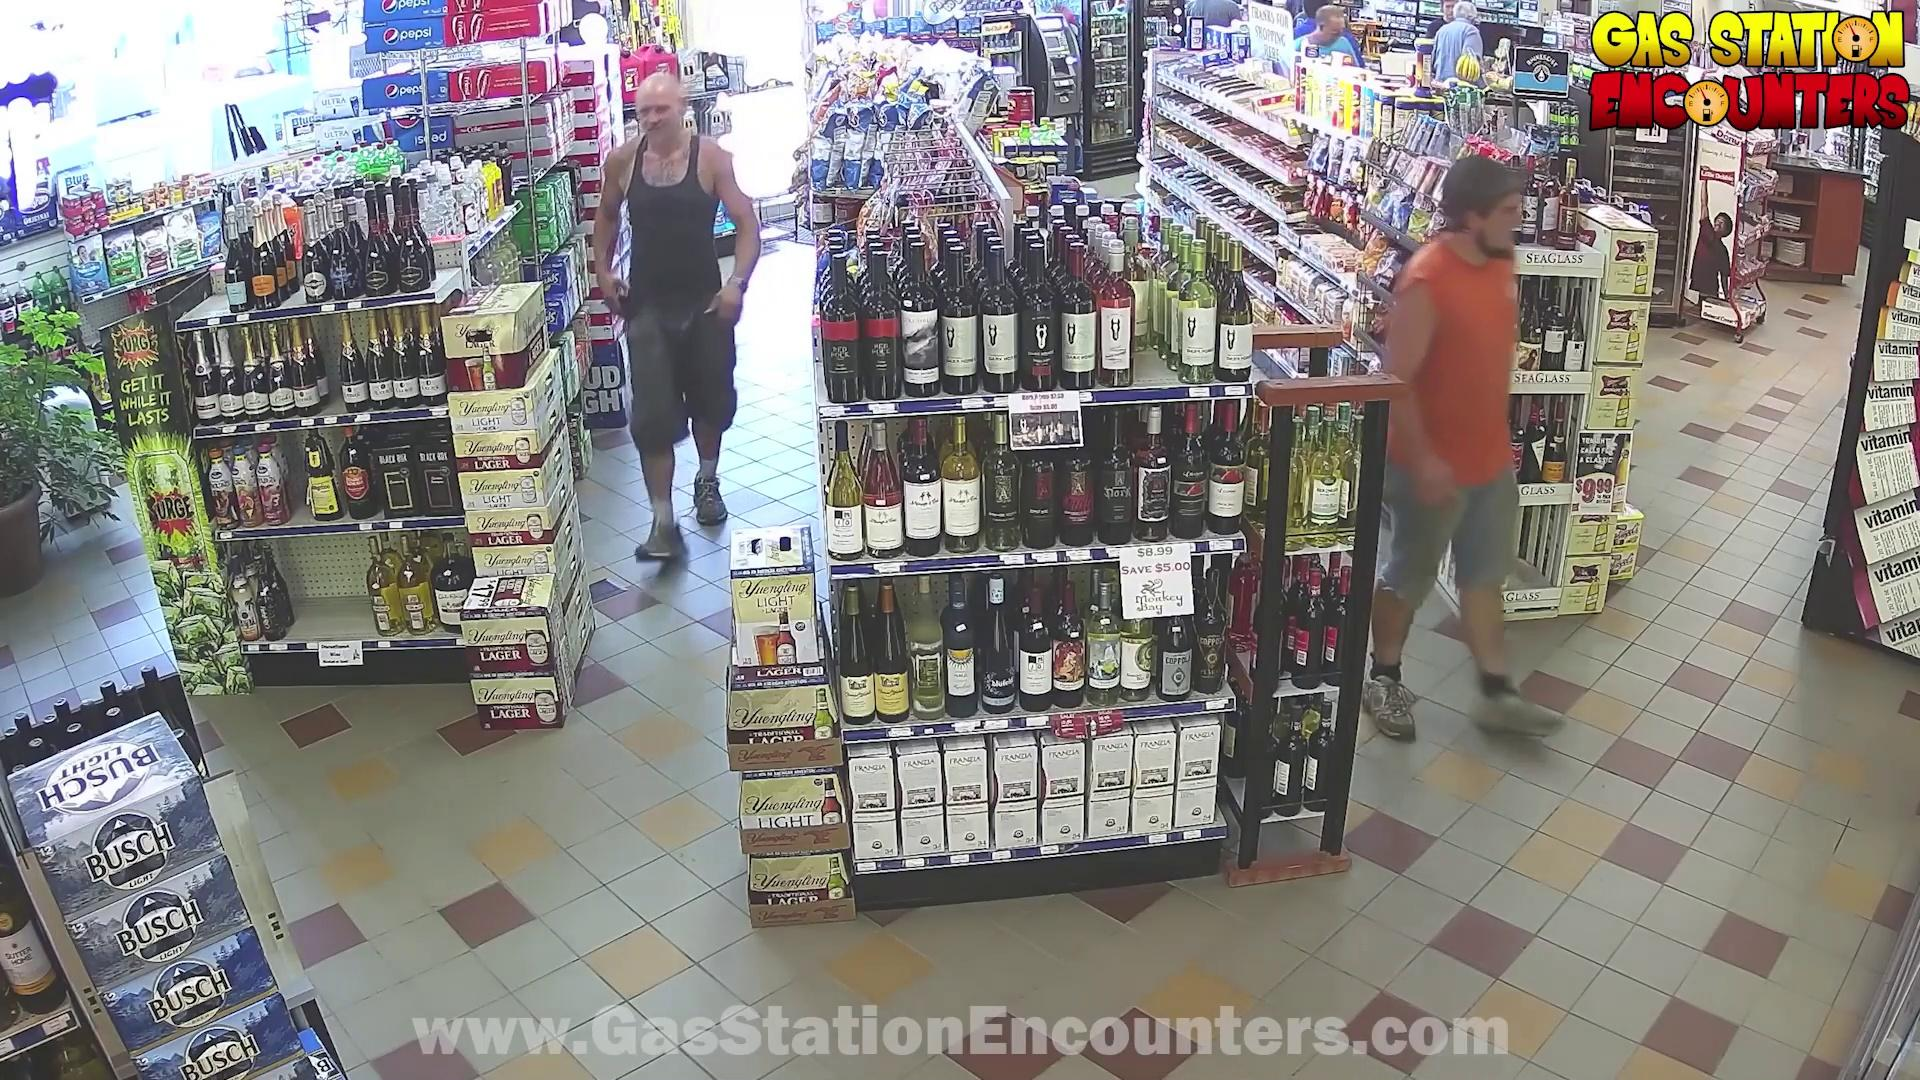Regular: (1303, 148, 1586, 749), (525, 47, 816, 578)
